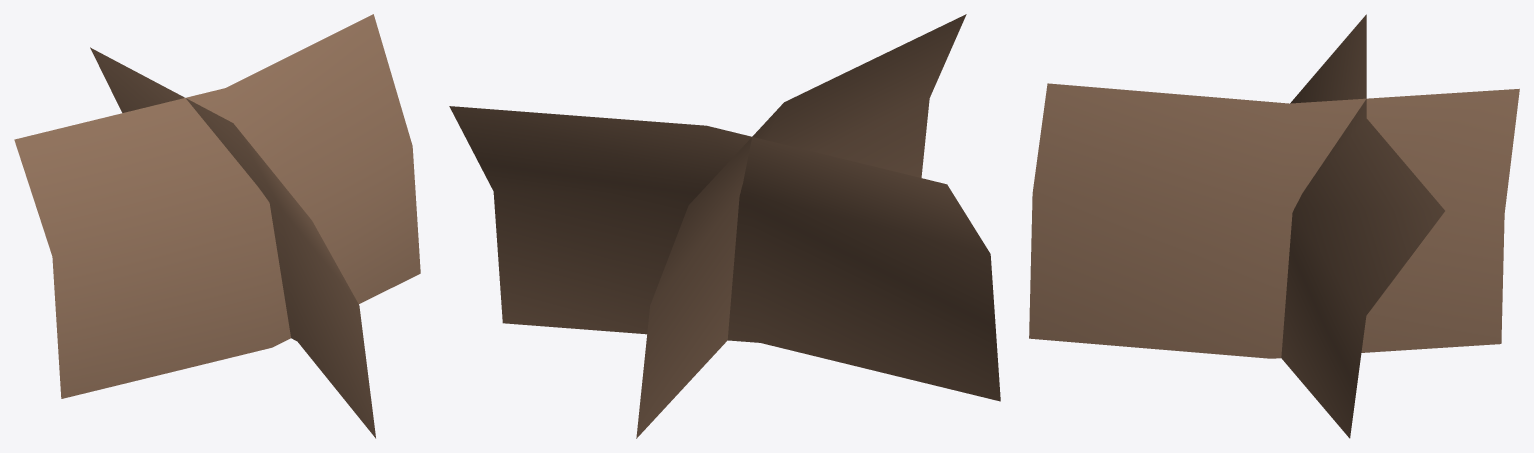
Rendered from GrassPlanes_b_TwoS_04.fbx.
The picture shows the model from 3 angles, left to right: view 1: azimuth 30°, elevation 25°; view 2: azimuth 150°, elevation 25°; view 3: azimuth 270°, elevation 25°; orthographic projection. The views are drawn at different scales.
Visible parts, largest first — view 1: GrassPlanes_b_TwoS_04; view 2: GrassPlanes_b_TwoS_04; view 3: GrassPlanes_b_TwoS_04.
Part boxes in pixels (x1=…): GrassPlanes_b_TwoS_04: x1=14, y1=14, x2=420, y2=438; GrassPlanes_b_TwoS_04: x1=449, y1=14, x2=1000, y2=438; GrassPlanes_b_TwoS_04: x1=1029, y1=14, x2=1519, y2=438.
Size of the model in its own units: 95.18 by 51.41 by 100.
